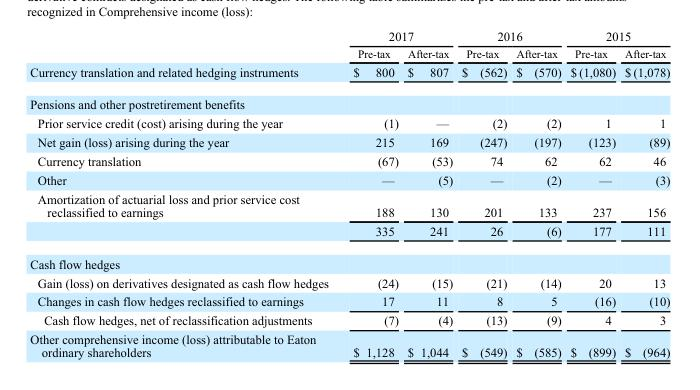table: (29, 29, 669, 358)
table column: (29, 29, 340, 358), (340, 29, 402, 358), (510, 29, 565, 358), (402, 29, 456, 358), (456, 29, 510, 358), (565, 29, 619, 358), (619, 29, 669, 358)
table column header: (29, 29, 669, 62)
table projected row header: (29, 87, 669, 113), (29, 246, 669, 272)
table row: (29, 189, 669, 221), (29, 329, 669, 358), (29, 87, 669, 113), (29, 246, 669, 272), (29, 62, 669, 87), (29, 221, 669, 246), (29, 113, 669, 132), (29, 132, 669, 151), (29, 151, 669, 170), (29, 170, 669, 189), (29, 272, 669, 291), (29, 291, 669, 310), (29, 310, 669, 329), (29, 45, 669, 62), (29, 29, 669, 45)
table spanning cell: (340, 29, 456, 45), (456, 29, 565, 45), (565, 29, 669, 45)
